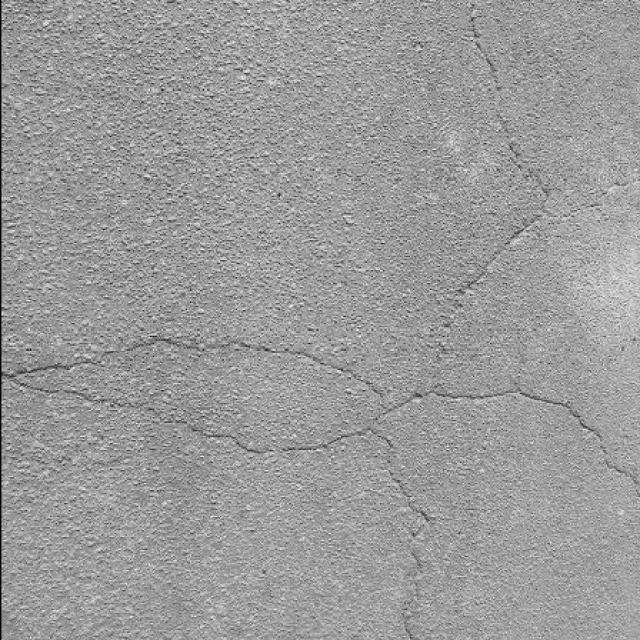Crack: (1, 339, 636, 640), (437, 5, 632, 332)
